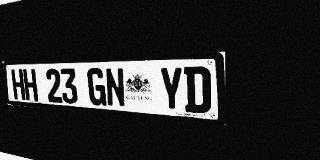2: (45, 69, 62, 103)
3: (60, 68, 78, 104)
D: (184, 66, 211, 114)
G: (87, 68, 107, 106)
H: (23, 69, 38, 101), (11, 69, 26, 100)
N: (105, 68, 126, 108)
Y: (159, 67, 184, 112)
